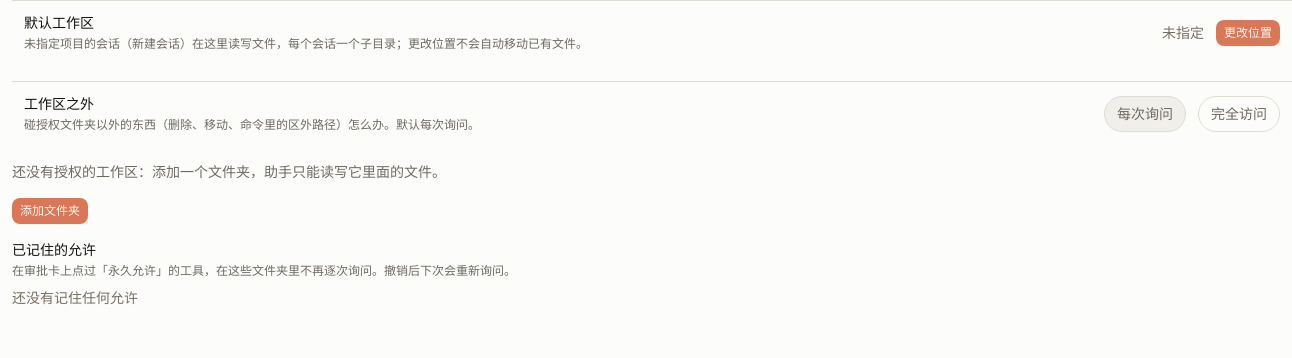
Test: 工作区组 · 添加（原生选择器） › 添加失败（选到不支持/不可用的路径）：行内报原因，不假装加上了
Click the button with test id "workspace-add" at (50, 211), box x1=12 y1=198 x2=88 y2=224
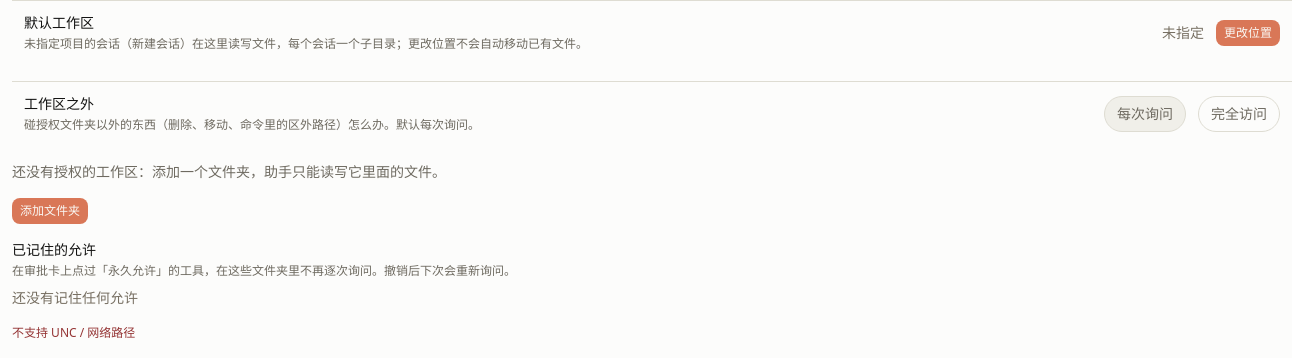
Check: the text "还没有授权的工作区：添加一个文件夹，助手只能读写它里面的文件。" is shown, box x1=12 y1=162 x2=446 y2=181
Check: the text with test id "workspace-error" reads "不支持 UNC / 网络路径", box x1=12 y1=324 x2=135 y2=341
